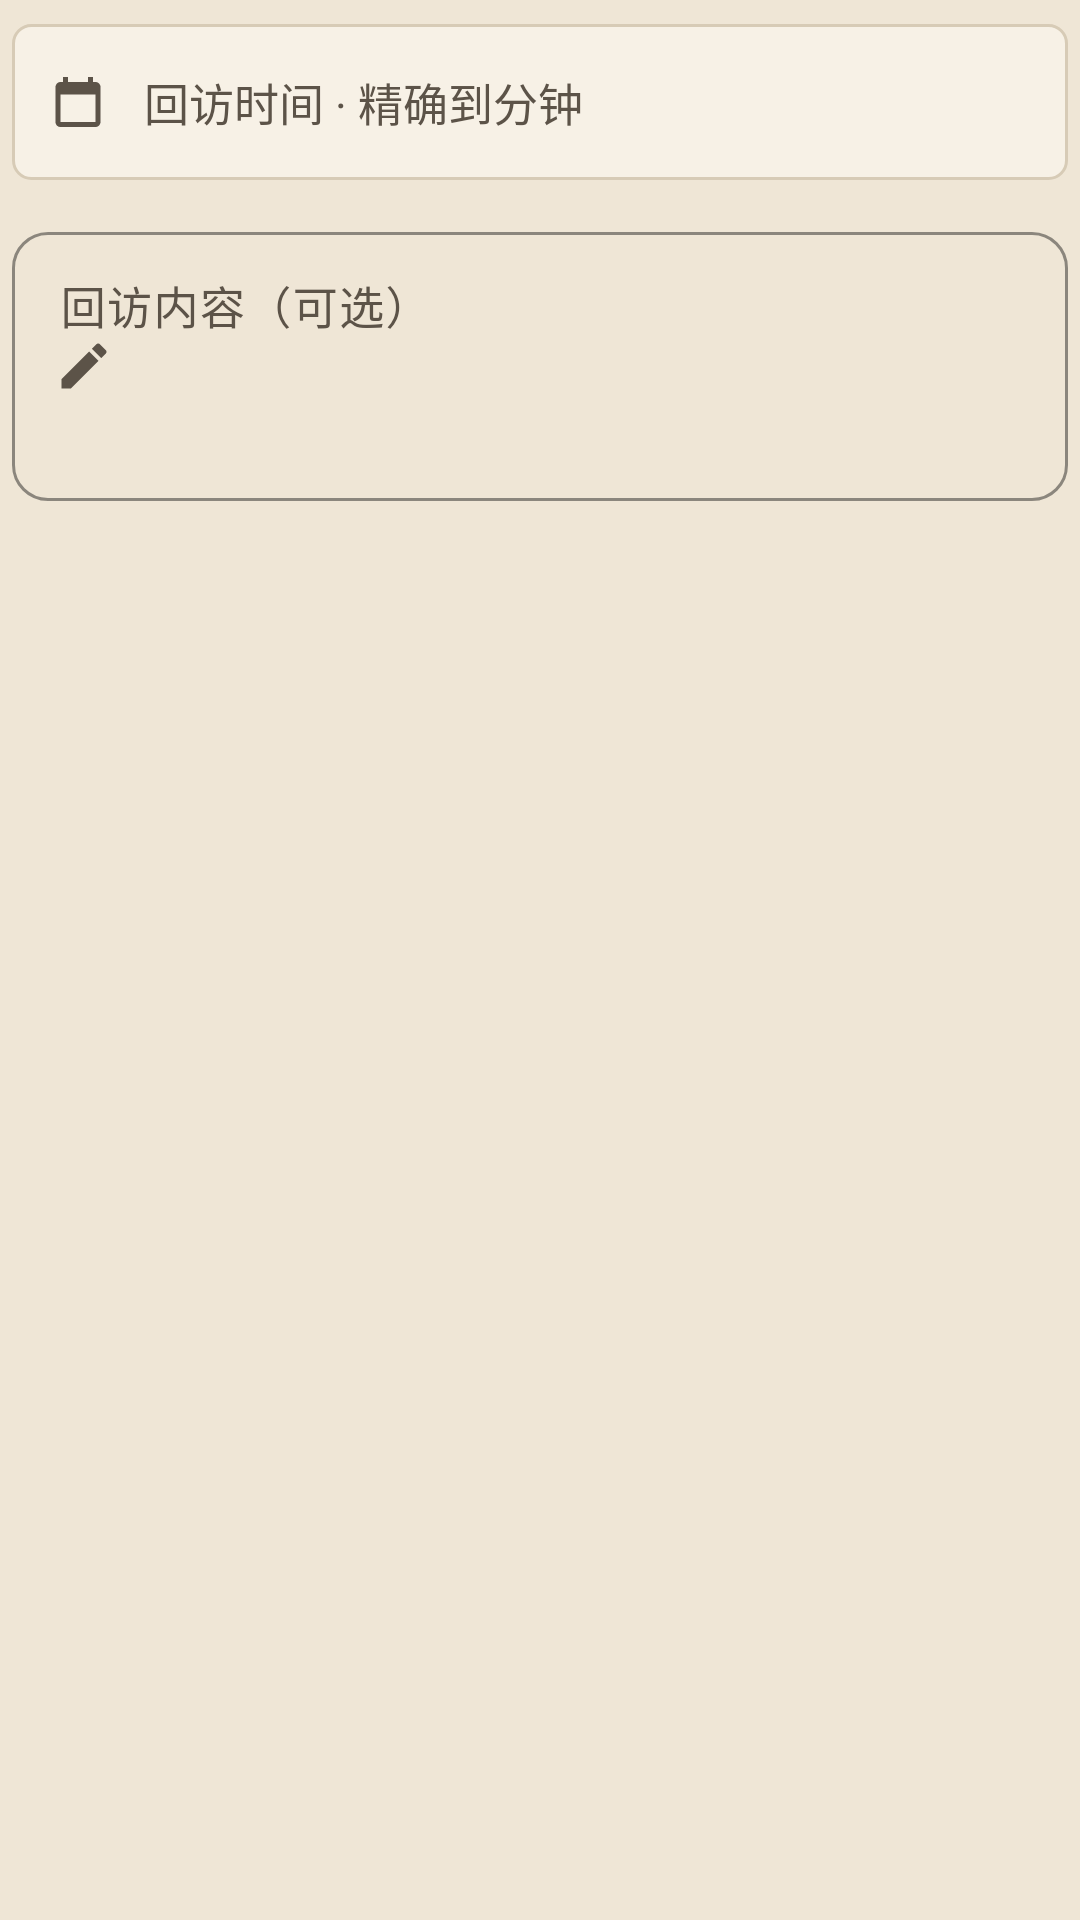

Where icons sit on this 1080w x 1920h app screen, as (x1, y1, x2, y2):
form date: (55, 77, 101, 127)
